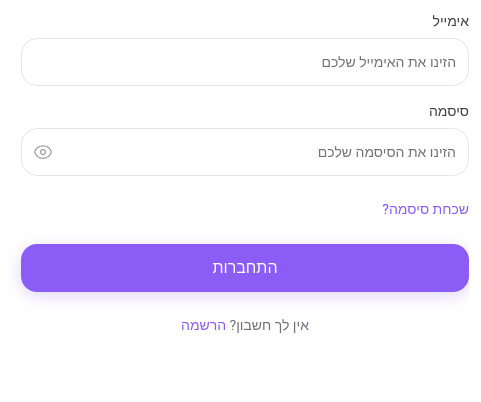
Test: LoginForm › Form Validation (Hebrew Messages) › shows Hebrew error when email is empty on submit
Step 1. Click the button "התחברות" → (245, 268), box [21,244,469,292]
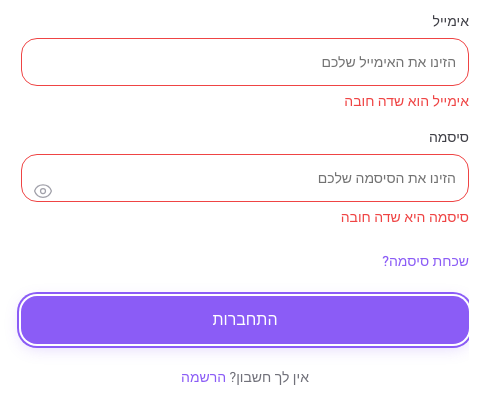
Check: the text "אימייל הוא שדה חובה" is shown, box [344,91,469,112]
